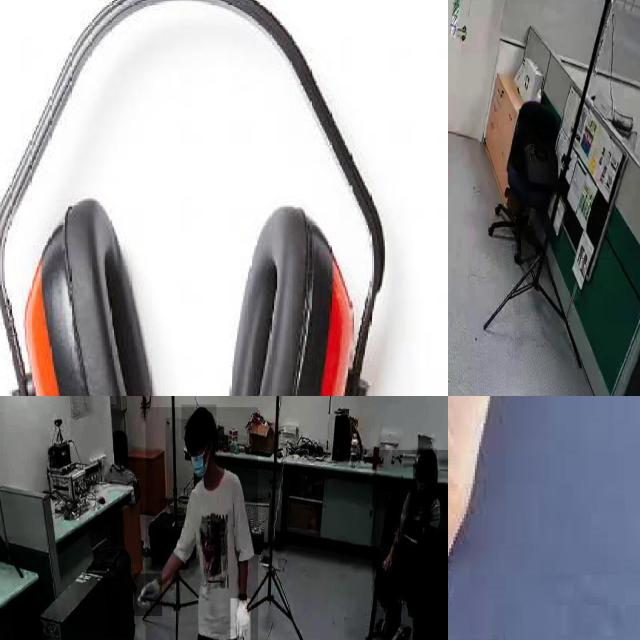Ear-protection: (0, 0, 388, 396)
face_mask: (189, 443, 209, 493), (413, 465, 429, 503)
hand_glove: (134, 573, 162, 617), (230, 598, 251, 640)
hand_noglove: (380, 547, 394, 571)
head_nohelmet: (181, 405, 217, 440), (417, 448, 437, 463)
person: (145, 407, 258, 640), (372, 450, 448, 640)
